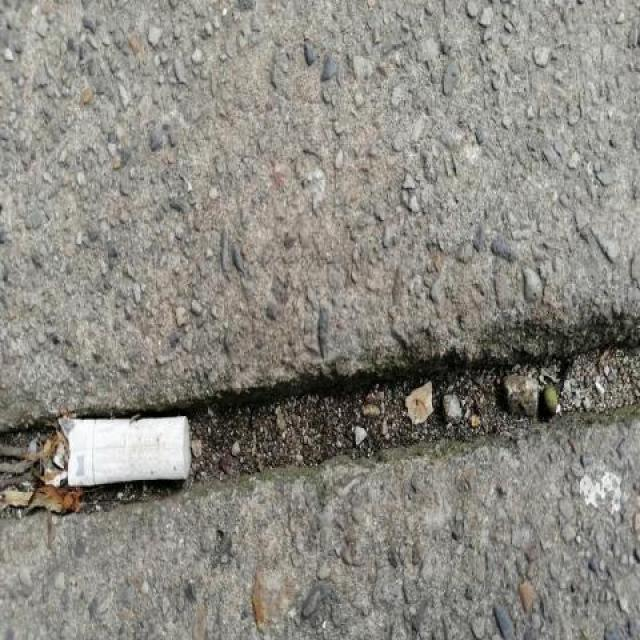non-organic waste: (52, 411, 197, 493)
